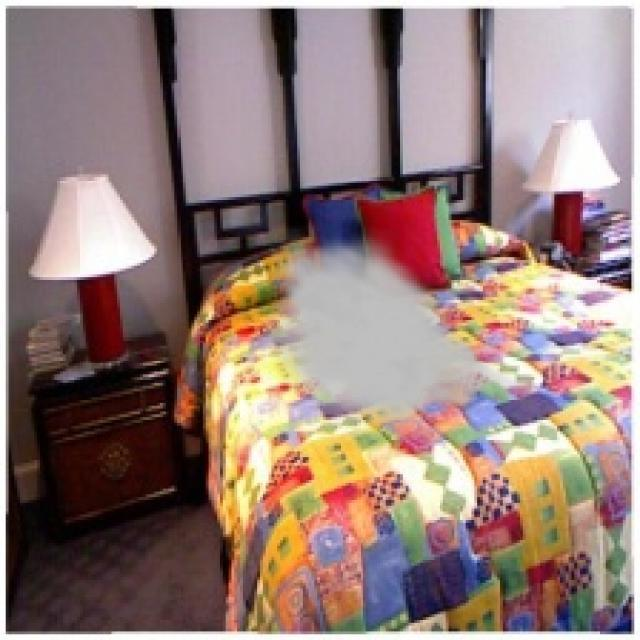Smoke: (260, 226, 537, 434)
